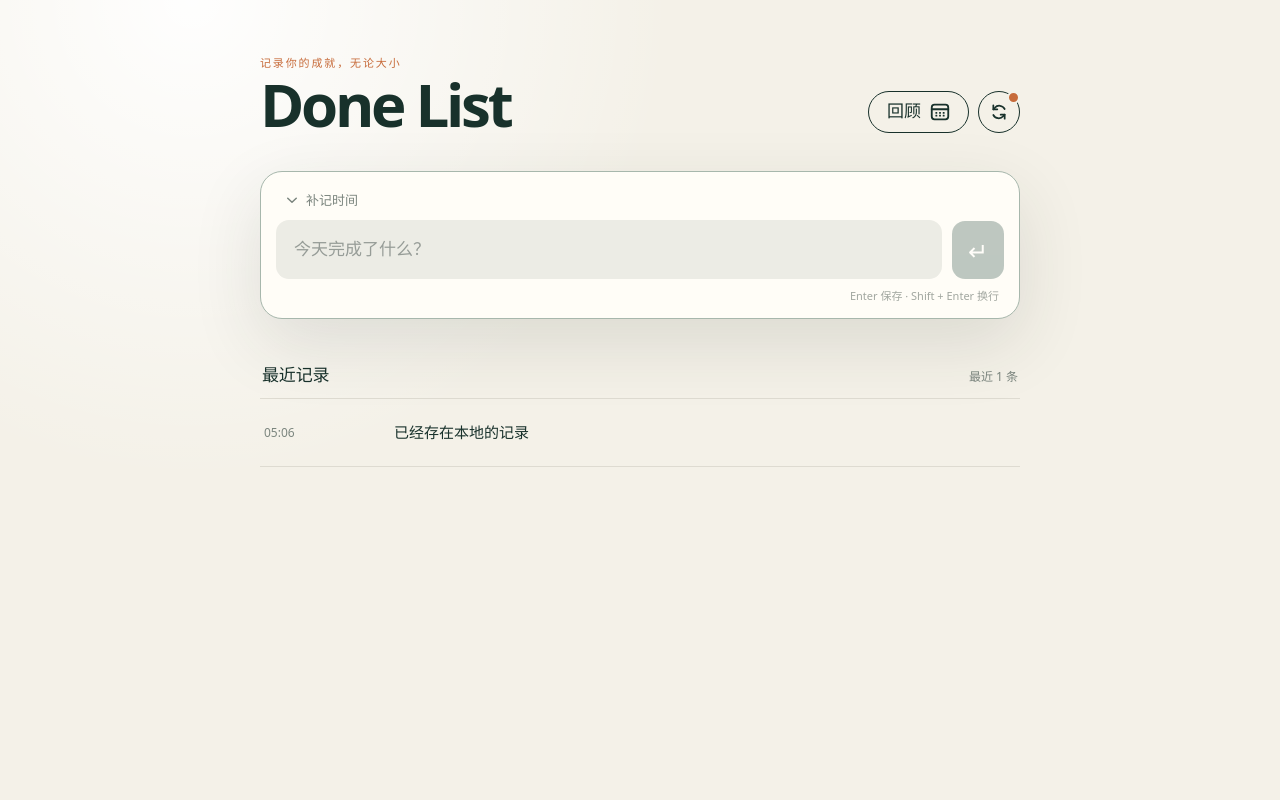
it: App: local records before background sync › keeps cached records visible and editable when cloud sync fails
Expected: the text "已经存在本地的记录" is shown, [394,422,529,442]
Click the button named "同步与账户" at (999, 112), box [978,91,1020,133]
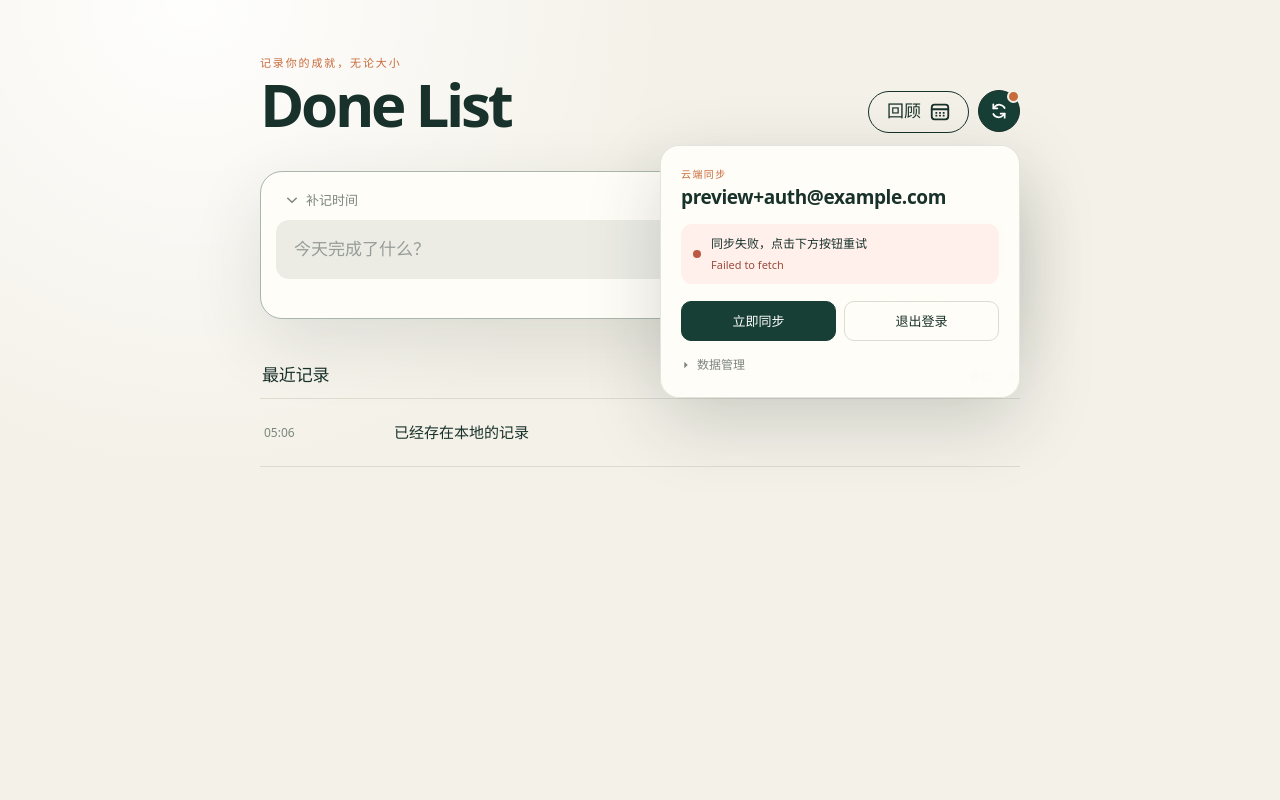
Expected: the text "已经存在本地的记录" is shown, [394,422,529,442]
Expected: the text "同步失败，点击下方按钮重试" is shown, [711,235,867,253]
